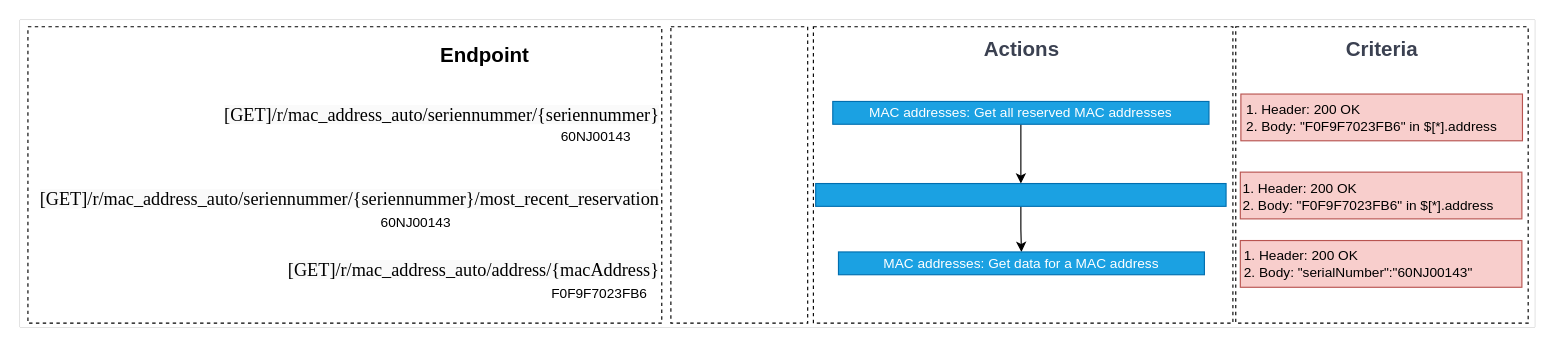
Image size: 1554x347. Some labels were removed from this diagram. The shapes that lost their labels are listed below. From the top down, each one's box as (x1, y1, x2, y2) in pixels, then its label:
(670, 26, 808, 323): Request body
(815, 182, 1226, 206): MAC addresses: Get the most recently reserved MAC addresses
